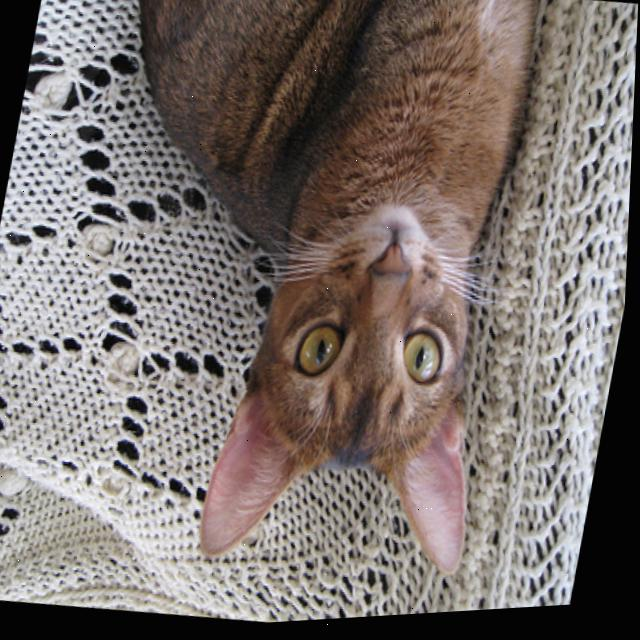Abyssinian: (20, 0, 573, 613)
